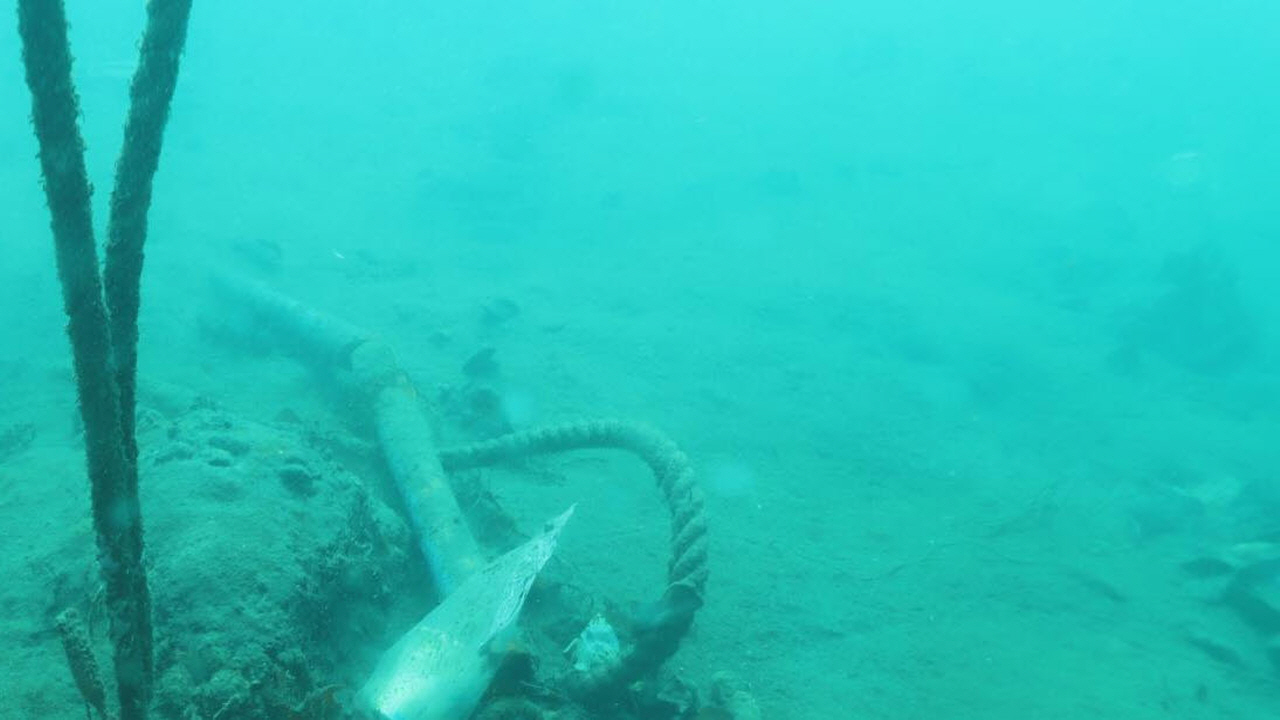bundle of ropes: (11, 0, 193, 720)
rope: (429, 414, 716, 712)
